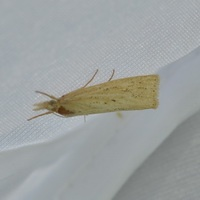insect: (28, 69, 159, 120)
